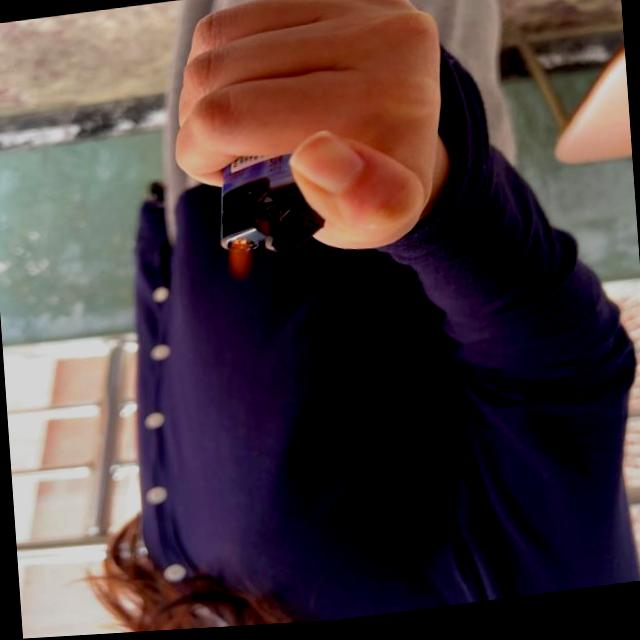Fire: (226, 237, 255, 285)
